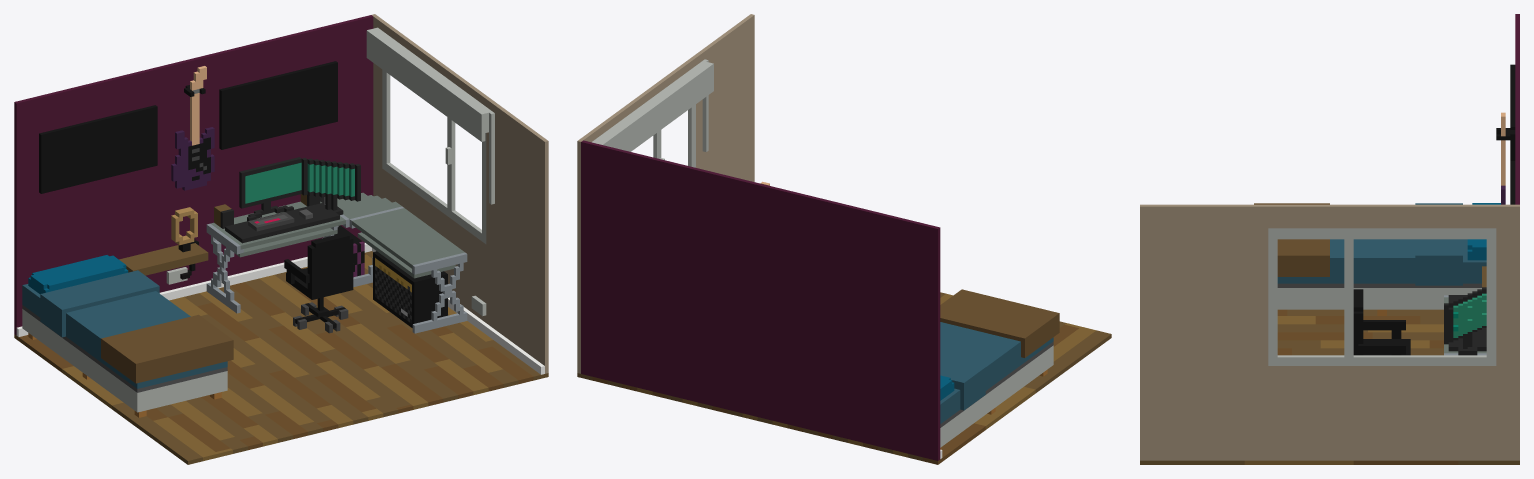
Rendered from room.glb.
3 renders of one model, left to right at view 1: azimuth 30°, elevation 25°; view 2: azimuth 150°, elevation 25°; view 3: azimuth 270°, elevation 25°, orthographic. The views are drawn at different scales.
Visible parts, largest first — view 1: cuarto_96x60x80; view 2: cuarto_96x60x80; view 3: cuarto_96x60x80.
Boxes of the visible parts, box(x1,y1,x2,y2) form: cuarto_96x60x80: box(14, 14, 548, 464); cuarto_96x60x80: box(577, 14, 1111, 464); cuarto_96x60x80: box(1140, 14, 1519, 464).
Bounding box in the file's own units: 96 × 60 × 80.
1 material, 1 textured.
